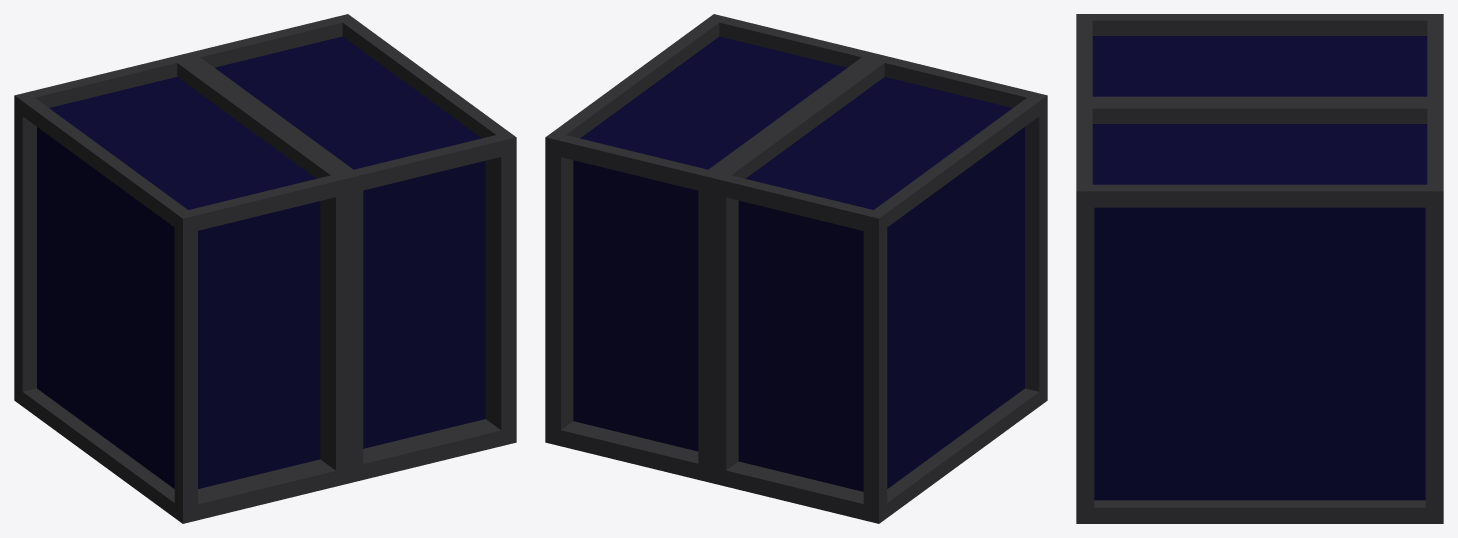
Rendered from Crate_Hangar.fbx.
3 renders of one model, left to right at view 1: azimuth 30°, elevation 25°; view 2: azimuth 150°, elevation 25°; view 3: azimuth 270°, elevation 25°, orthographic. The views are drawn at different scales.
Parts seen in each view (by area): view 1: Crate; view 2: Crate; view 3: Crate.
Part boxes in pixels (left/top/right/bottom): Crate: left=14, top=14, right=516, bottom=523; Crate: left=545, top=14, right=1047, bottom=523; Crate: left=1076, top=14, right=1443, bottom=523.
Bounding box in the file's own units: 229 × 200 × 200.
